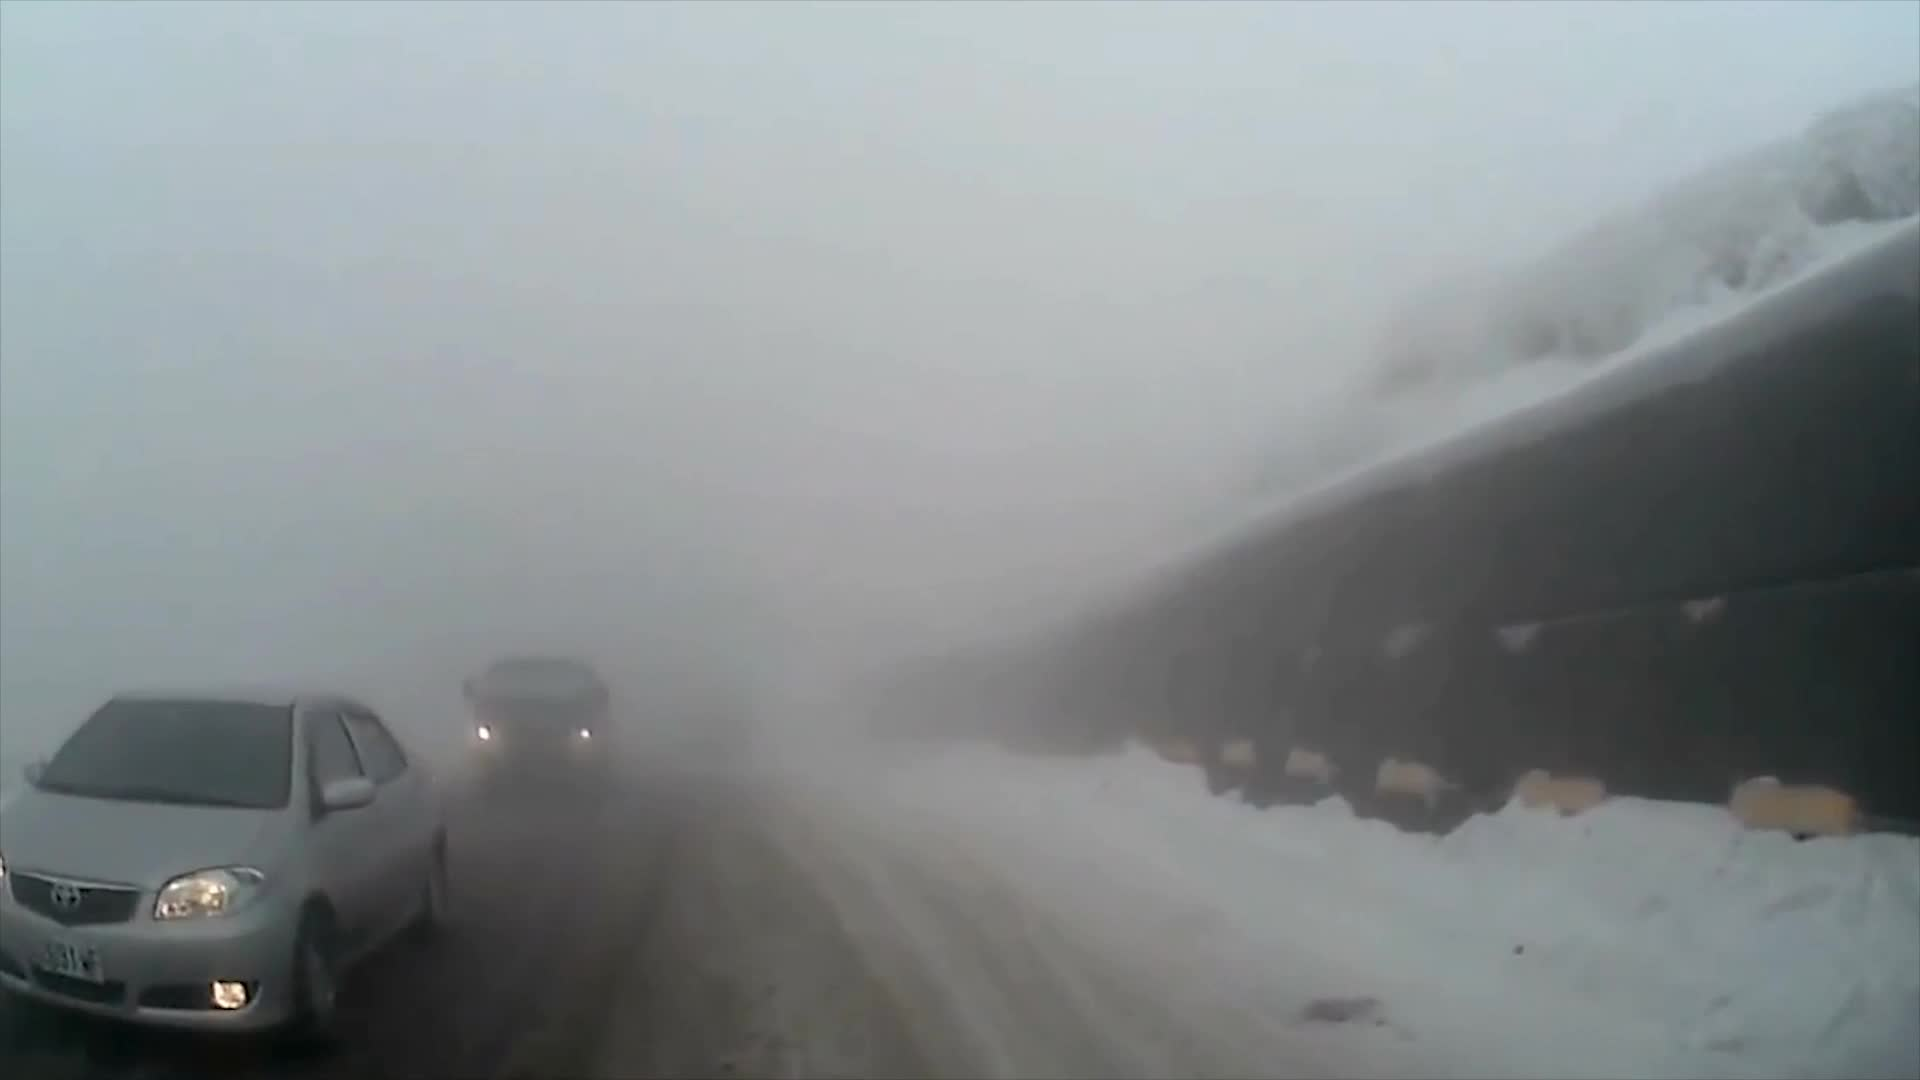vehicle: (4, 680, 458, 1056), (458, 650, 616, 789)
